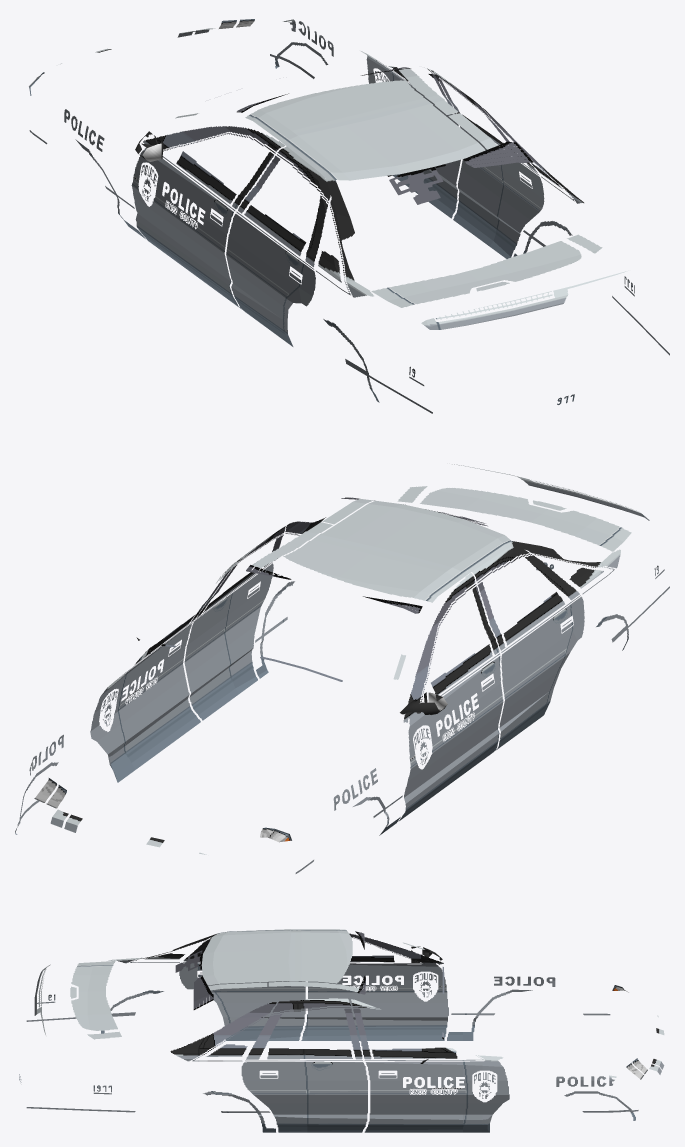
Rendered from 92intrepid.fbx.
The picture shows the model from 3 angles, top to bottom: view 1: azimuth 30°, elevation 25°; view 2: azimuth 150°, elevation 25°; view 3: azimuth 270°, elevation 25°; orthographic projection. The views are drawn at different scales.
Parts seen in each view (by area): view 1: 92intrepid; view 2: 92intrepid; view 3: 92intrepid.
Boxes of the visible parts, x1=… form: 92intrepid: x1=29, y1=19, x2=669, y2=413; 92intrepid: x1=15, y1=464, x2=669, y2=873; 92intrepid: x1=19, y1=929, x2=664, y2=1132.
Bounding box in the file's own units: 2.18 × 1.15 × 5.4.
